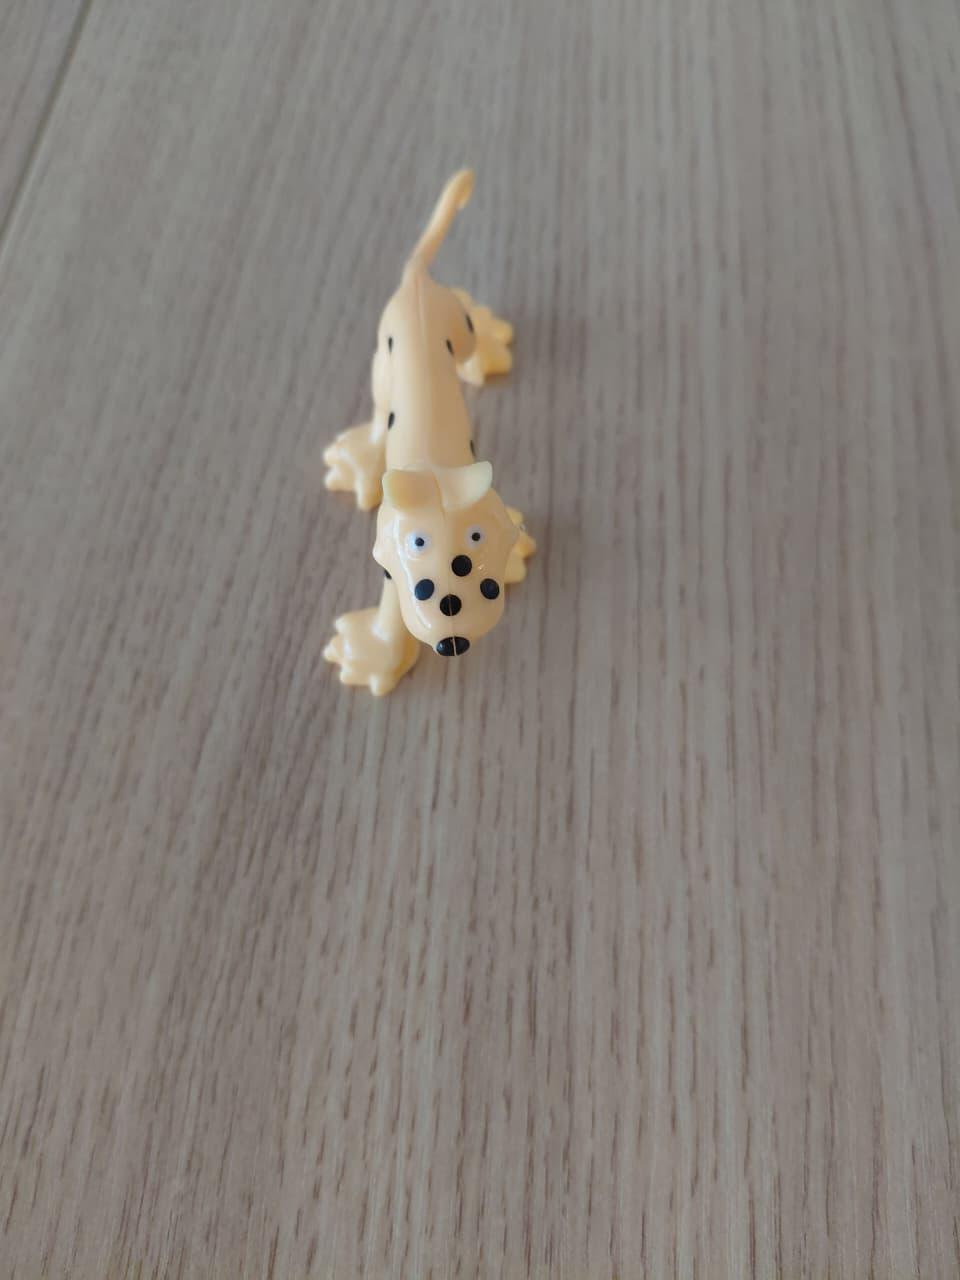cheetah: (230, 150, 720, 803)
